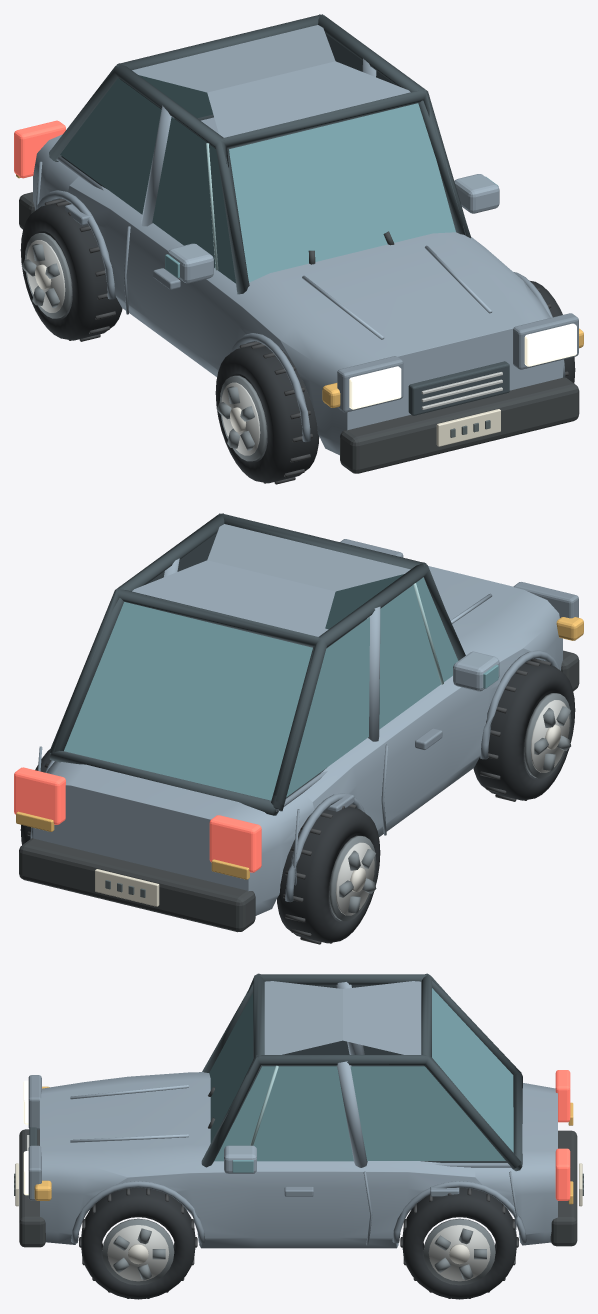
Rendered from car_09.fbx.
The picture shows the model from 3 angles, top to bottom: view 1: azimuth 30°, elevation 25°; view 2: azimuth 150°, elevation 25°; view 3: azimuth 270°, elevation 25°; orthographic projection. The views are drawn at different scales.
Visible parts, largest first — view 1: Body_SculptedShell, FrontWindscreen, Roof_CrownedPanel, FrontBumper, SideWindow_L_1, SideWindow_L_0, Tyre_FL, Tyre_RL, WindowOutline_L, WindowOutline_R, FrontWindscreenBorder, FrontGrille (+22 smaller); view 2: Body_SculptedShell, RearWindow, Roof_CrownedPanel, RearBumper, SideWindow_L_1, SideWindow_L_0, Tyre_RL, Tyre_FL, RearWindowBorder, WindowOutline_L, WindowOutline_R, TailLamp_L (+19 smaller); view 3: Body_SculptedShell, Roof_CrownedPanel, SideWindow_R_1, SideWindow_R_0, Tyre_FR, Tyre_RR, RearWindow, WindowOutline_R, FrontWindscreen, WindowOutline_L, RearWindowBorder, WheelDish_FR (+20 smaller).
Boxes of the visible parts, x1,y1,x2,y2 form: Body_SculptedShell: [33, 117, 562, 455]; FrontWindscreen: [229, 103, 455, 282]; Roof_CrownedPanel: [132, 25, 410, 137]; FrontBumper: [340, 377, 579, 473]; SideWindow_L_1: [60, 78, 161, 214]; SideWindow_L_0: [152, 117, 235, 283]; Tyre_FL: [215, 343, 319, 483]; Tyre_RL: [20, 200, 122, 340]; WindowOutline_L: [51, 63, 249, 291]; WindowOutline_R: [318, 14, 471, 238]; FrontWindscreenBorder: [217, 89, 465, 294]; FrontGrille: [408, 361, 509, 415]; Body_SculptedShell: [33, 566, 562, 915]; RearWindow: [64, 602, 312, 800]; Roof_CrownedPanel: [132, 524, 410, 636]; RearBumper: [19, 838, 255, 932]; SideWindow_L_1: [286, 617, 369, 796]; SideWindow_L_0: [379, 577, 458, 729]; Tyre_RL: [277, 806, 380, 943]; Tyre_FL: [473, 660, 575, 800]; RearWindowBorder: [49, 588, 324, 815]; WindowOutline_L: [273, 562, 465, 810]; WindowOutline_R: [49, 513, 224, 753]; TailLamp_L: [209, 815, 261, 872]; Body_SculptedShell: [40, 1072, 557, 1248]; Roof_CrownedPanel: [264, 981, 421, 1054]; SideWindow_R_1: [350, 1066, 505, 1160]; SideWindow_R_0: [214, 1066, 353, 1161]; Tyre_FR: [81, 1187, 195, 1299]; Tyre_RR: [402, 1187, 516, 1299]; RearWindow: [432, 988, 513, 1152]; WindowOutline_R: [201, 1055, 521, 1169]; FrontWindscreen: [209, 993, 253, 1143]; WindowOutline_L: [202, 974, 516, 1074]; RearWindowBorder: [421, 973, 522, 1171]; WheelDish_FR: [107, 1225, 169, 1281].
Size of the model in its own units: 234 by 191 by 432.
